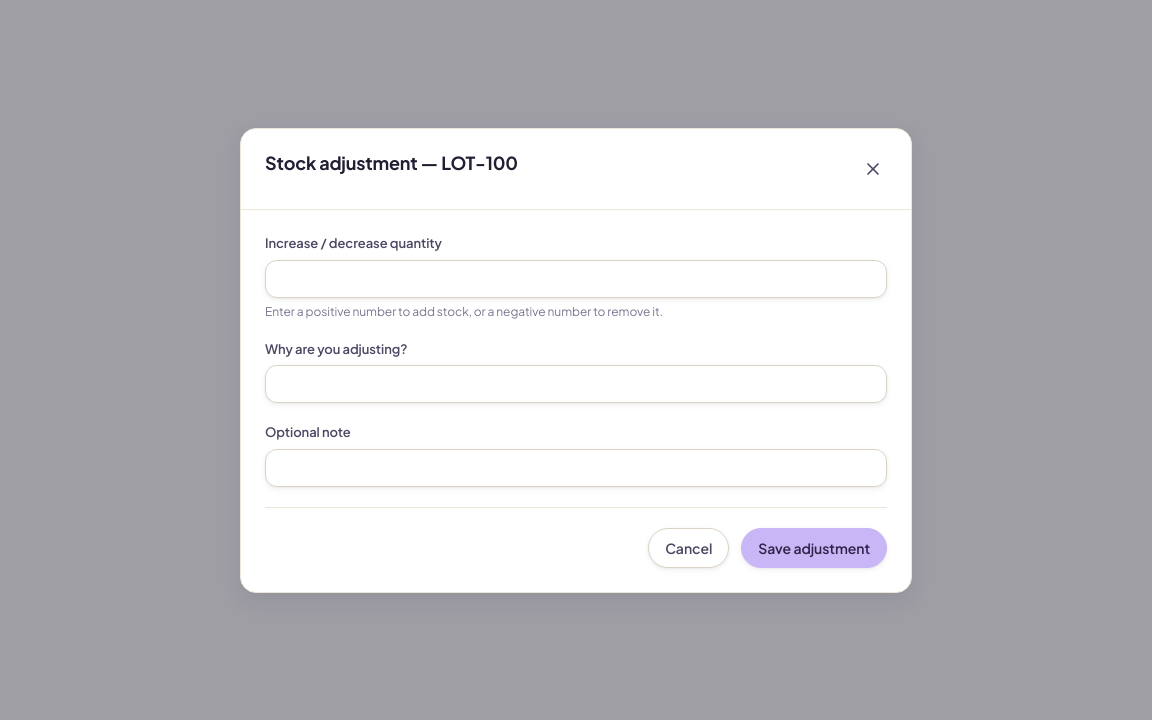
AdjustBatchModal › blocks missing reason
Type "-2" into the number field labelled "Increase / decrease quantity". click: (576,278)
box: [265, 259, 887, 297]
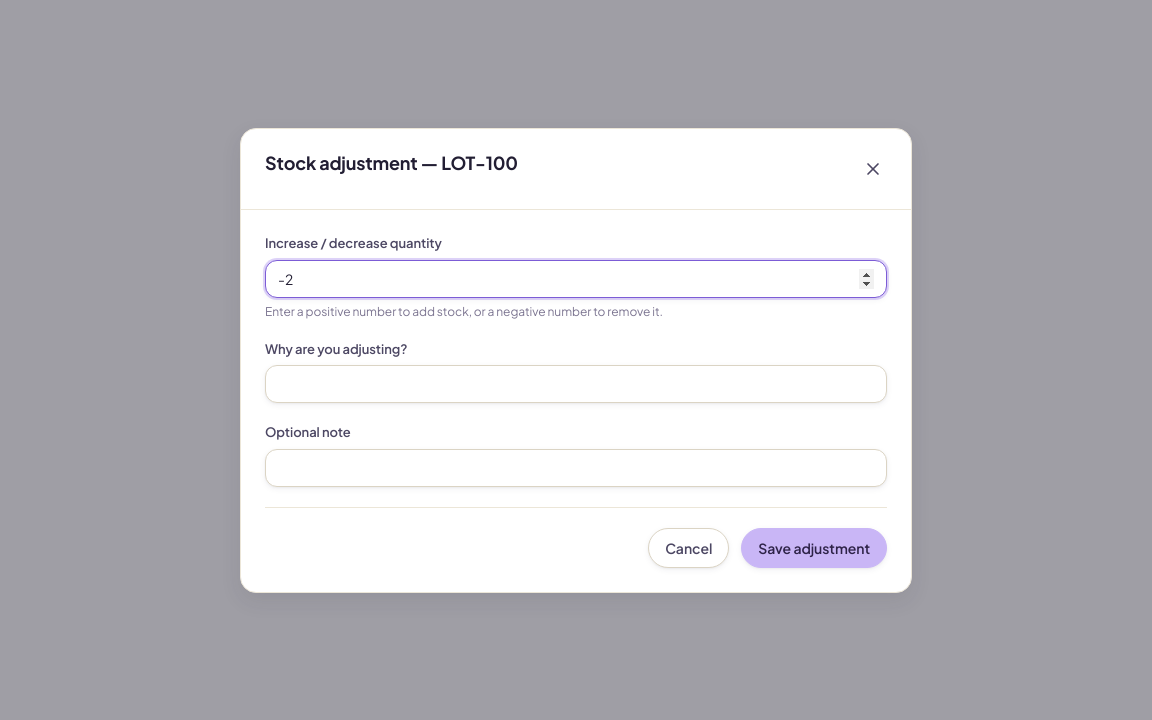
Click the button "Save adjustment". click: (814,547)
box: [741, 527, 887, 567]
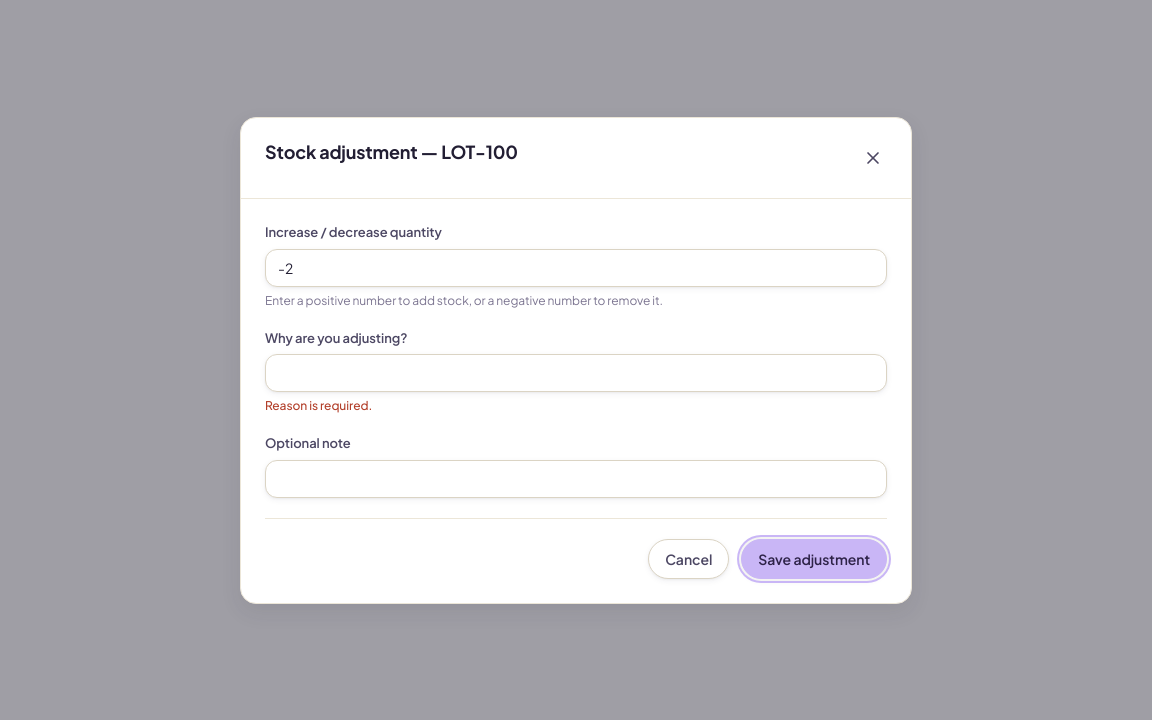
Result: the list item "Reason is required." is shown at [265, 398, 372, 413]
